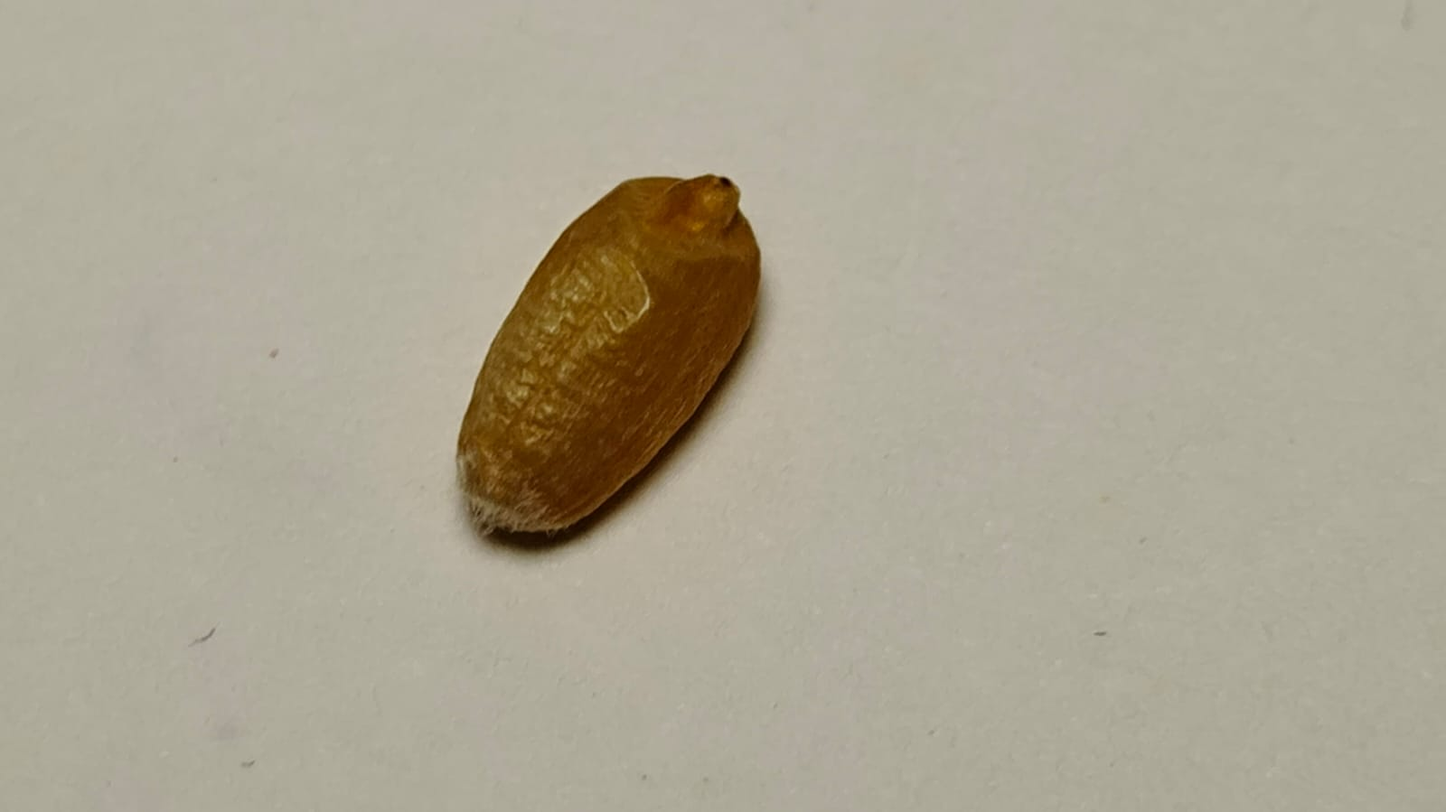healthy: (458, 174, 760, 531)
